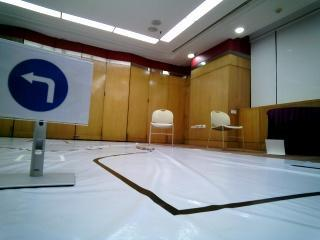left: (0, 57, 75, 120)
